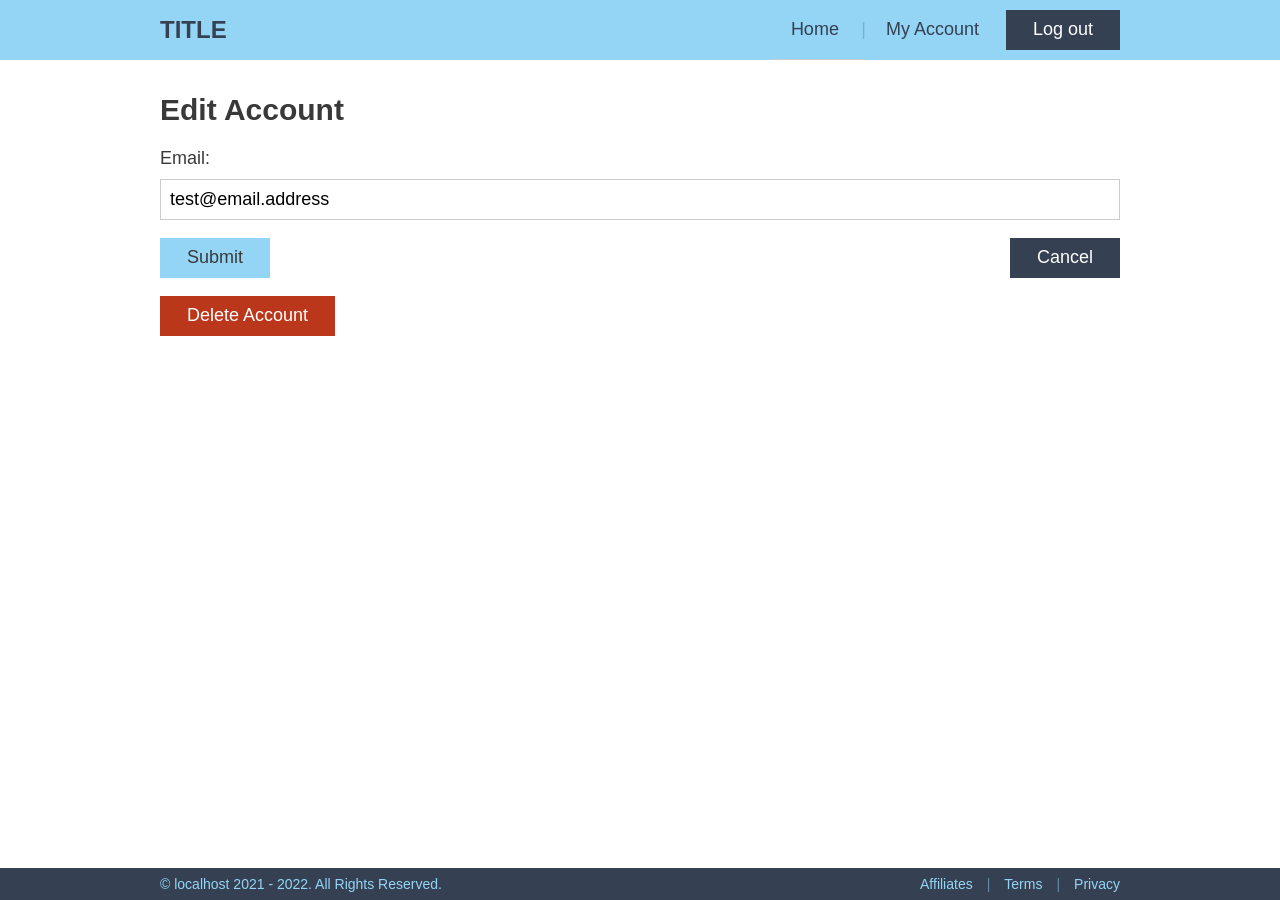
edit account tests › should show error when same current email submitted
Replace the text in the field labelled "Email:" with "current@same.email". click: (640, 200)
box: x1=160 y1=179 x2=1120 y2=220
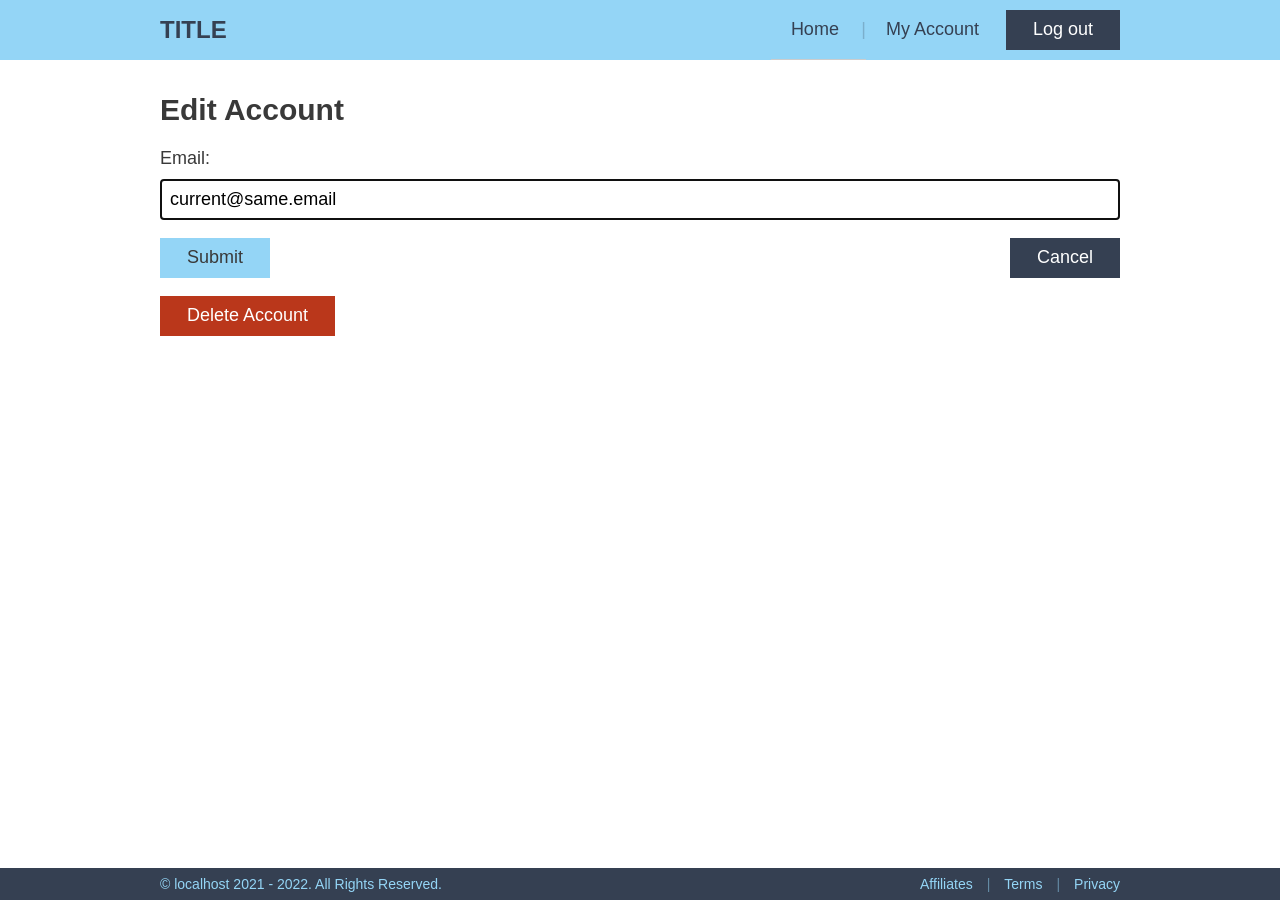
Click the button "Submit". click: click(215, 258)
box: x1=160 y1=238 x2=270 y2=278
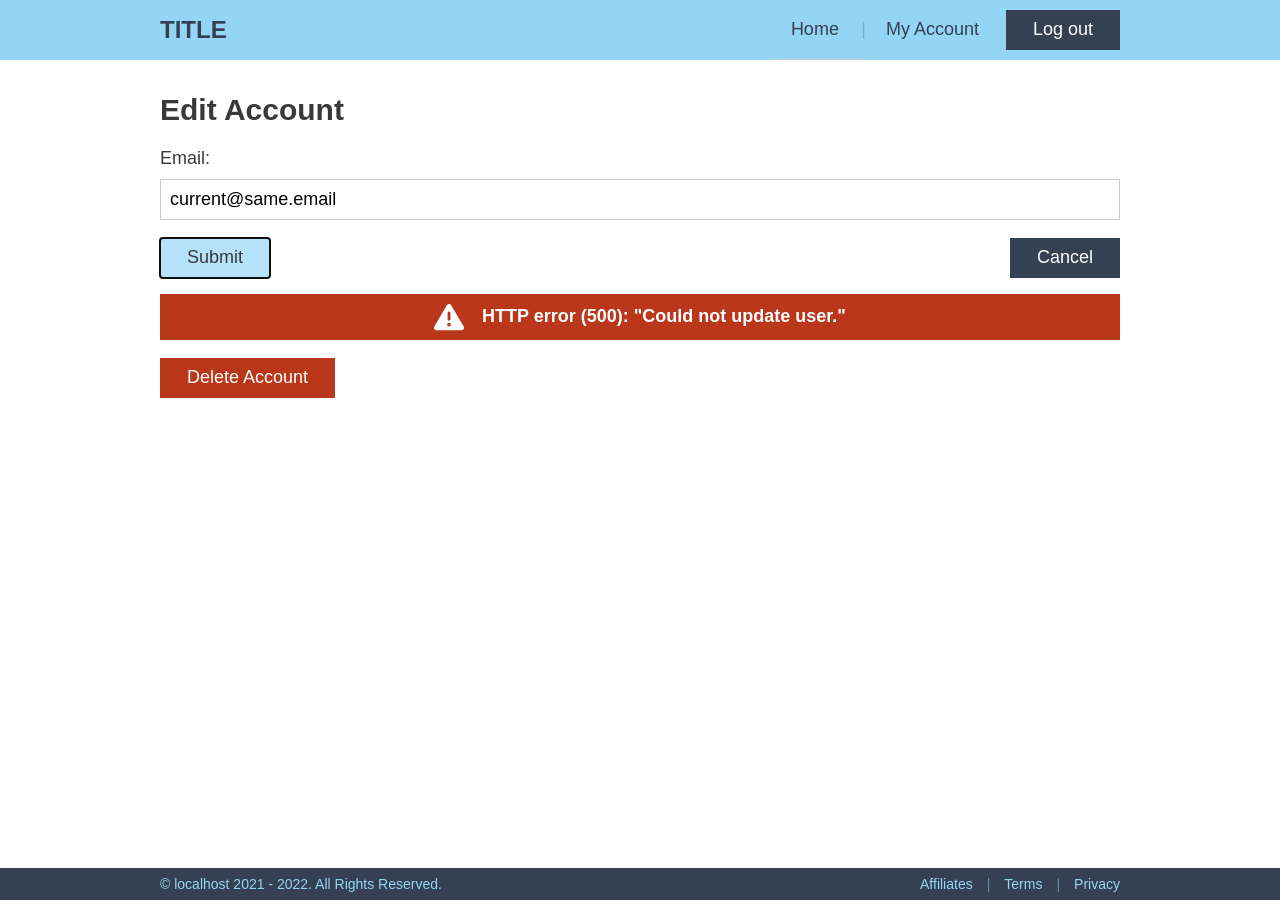
Expected: the text "HTTP error (500): \"Could not update user.\"" is shown, x1=482 y1=305 x2=846 y2=329
